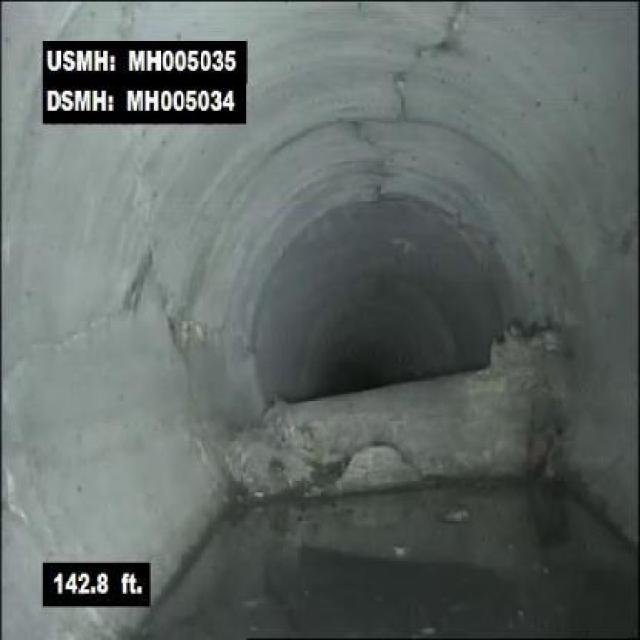Crack: (11, 246, 158, 366), (385, 3, 477, 117)
Utility intrusion: (238, 322, 574, 512)
